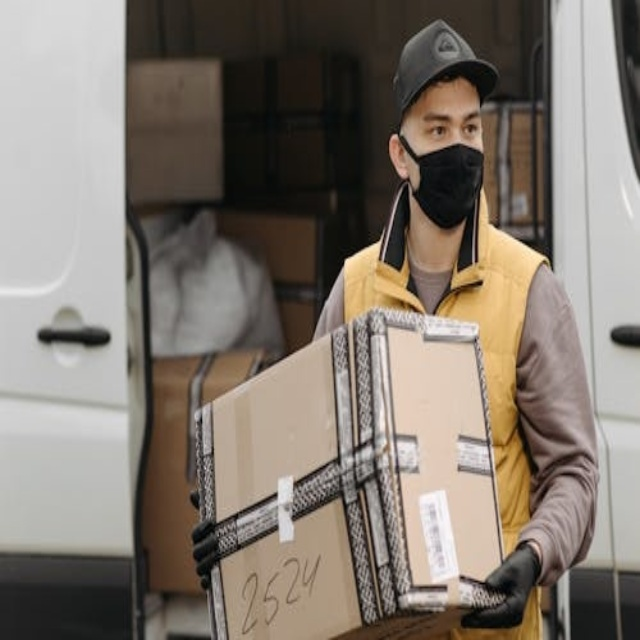Guantes: (457, 535, 534, 632), (186, 481, 223, 592)
Mascara: (399, 134, 484, 227)
Sin_gafas: (415, 105, 483, 140)
